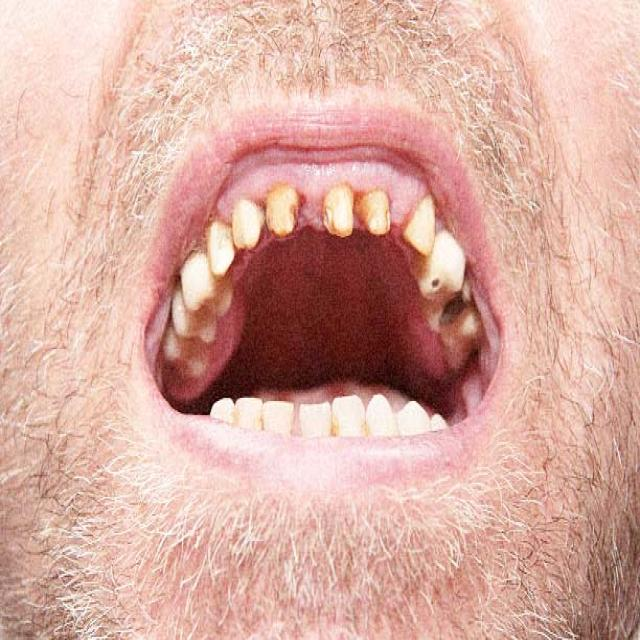caries: (318, 178, 359, 242), (264, 181, 306, 239), (436, 284, 473, 338), (360, 185, 392, 236), (422, 263, 444, 296)
